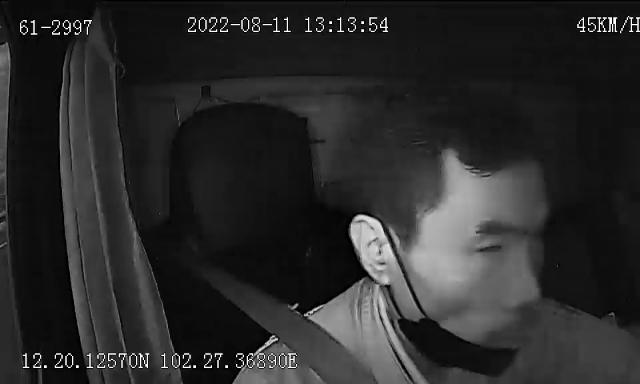Seatbelt: (183, 240, 387, 384)
